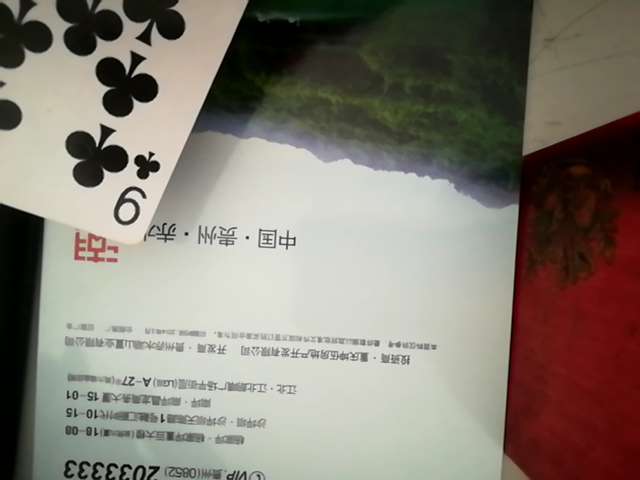mh 9: (0, 0, 265, 250)
